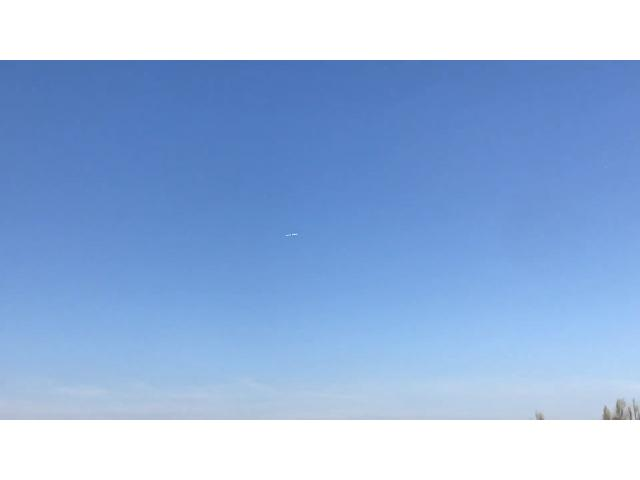Anti-Drone: (278, 226, 308, 244)
